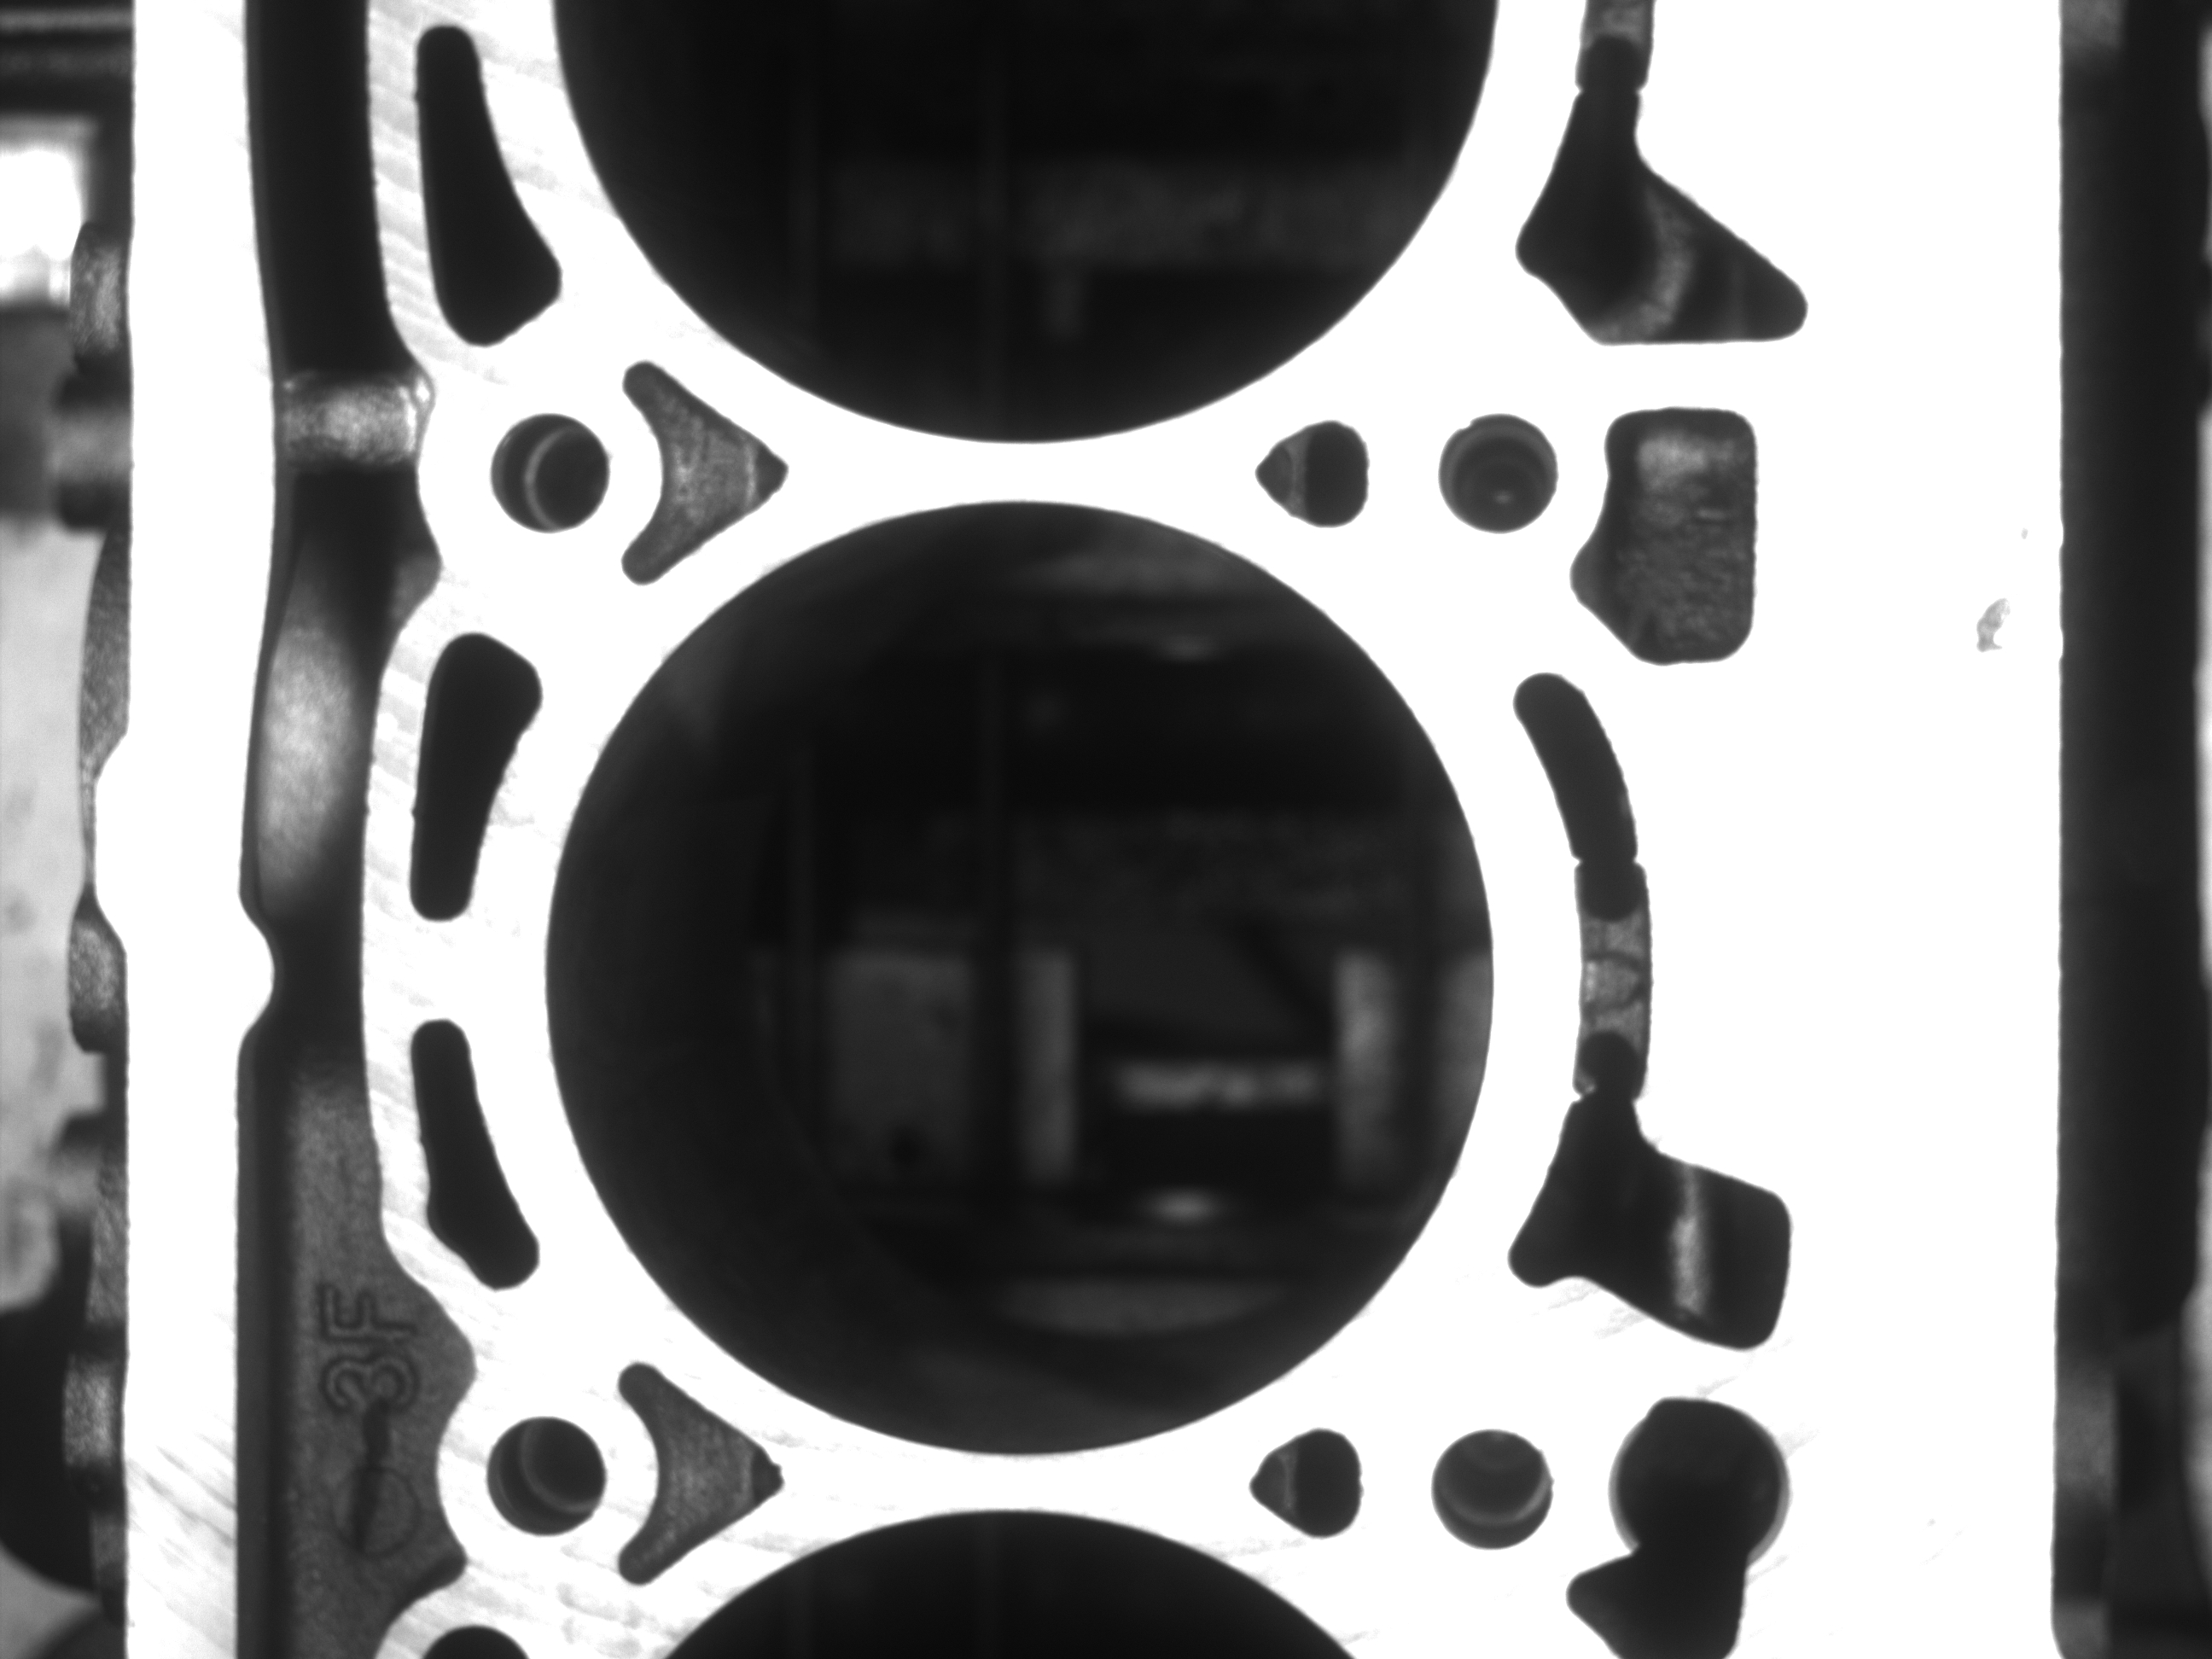shrinkage: (1946, 565, 2036, 694)
